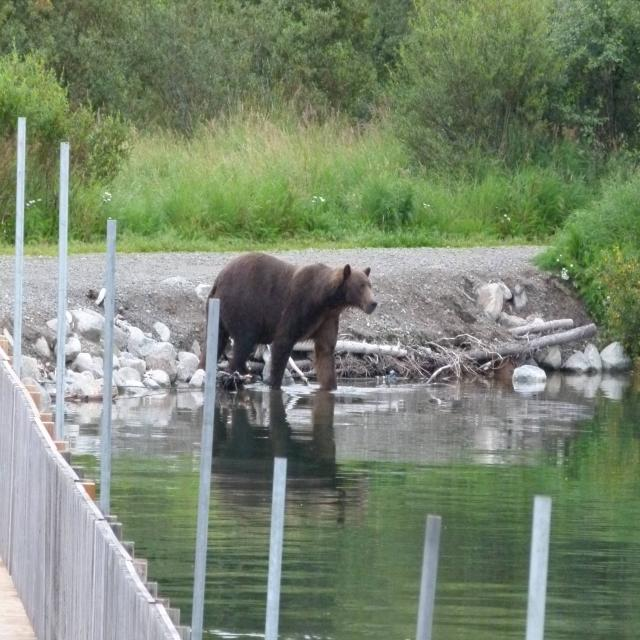bear face: (209, 255, 378, 390)
